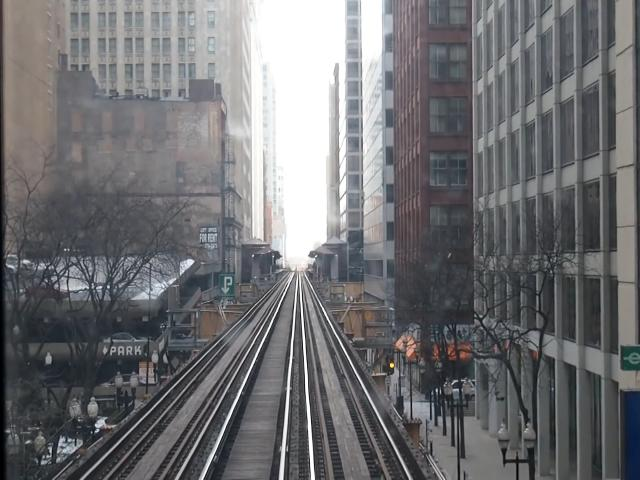signal light: (388, 359, 396, 376)
